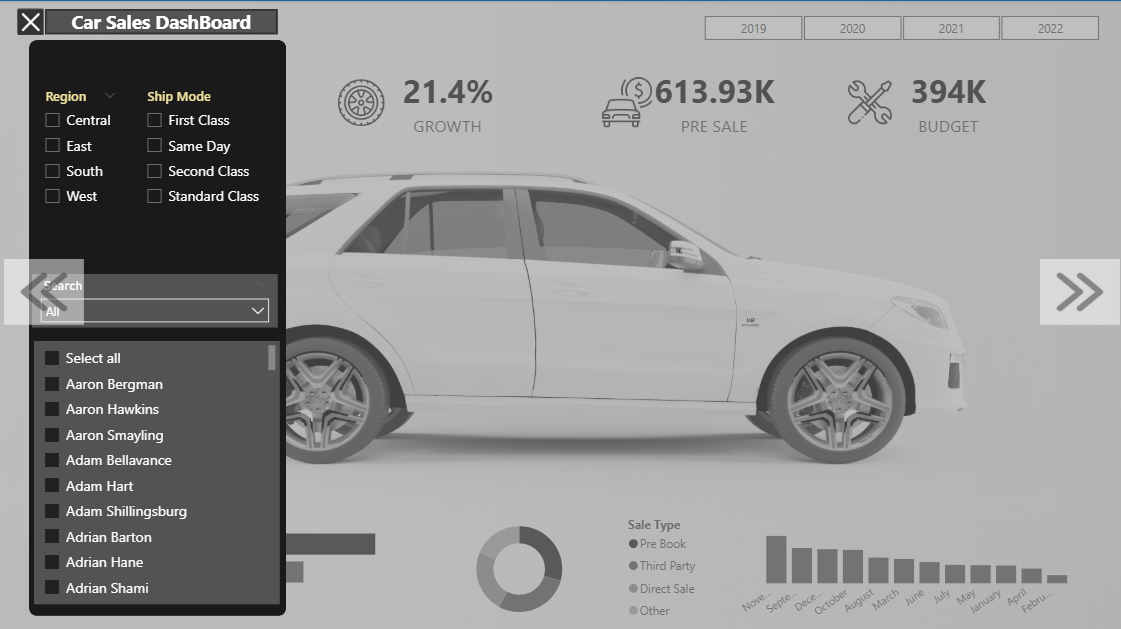

The page's visual inventory and layout, read from the dashboard file:
{"tool":"powerbi","page":{"name":"Model 1","canvas":[1280,720],"ordinal":0},"visuals":[{"type":"card","fields":{"Values":["Orders.Current Year Sales"]},"box":[95.7,48.1,246.6,135.9],"z":0},{"type":"card","fields":{"Values":["Orders.Sales Growth"]},"box":[383.4,48.1,255,135.9],"z":1000},{"type":"card","fields":{"Values":["Orders.Previous_years_sales"]},"box":[701.2,48.1,228.6,135.9],"z":2000},{"type":"card","fields":{"Values":["Budget.Budget Current Year Sales"]},"box":[967.2,48.1,228.6,135.9],"z":3000},{"type":"image","box":[83,85.4,102.3,61.4],"z":4000},{"type":"image","box":[360.9,85.4,102.3,62.6],"z":5000},{"type":"image","box":[654.4,80.6,123.9,71],"z":6000},{"type":"image","box":[943.2,86.6,98.6,60.2],"z":7000},{"type":"donutChart","fields":{"Category":["Orders.Category"],"Y":["Orders.Current Year Sales"]},"box":[463.2,582.3,344.1,132.3],"z":8000},{"type":"clusteredColumnChart","fields":{"Category":["Orders.Ordered Month"],"Y":["Orders.Current Year Sales"]},"box":[822.9,582.3,411.4,132.3],"z":9000},{"type":"clusteredBarChart","fields":{"Category":["Orders.Segment"],"Y":["Orders.Current Year Sales"]},"box":[36.1,582.3,411.4,132.3],"z":10000},{"type":"slicer","fields":{"Values":["Orders.Ordered Year"]},"box":[778.3,10.8,499.2,37.3],"z":11000},{"type":"shape","box":[52.5,10,265,28.8],"z":12000},{"type":"image","box":[5,5,62.5,40],"z":13000},{"type":"actionButton","box":[6.2,295,91.2,75],"z":15000},{"type":"actionButton","box":[1186.2,295,91.2,75],"z":16000}]}

Visuals, with their boxes on the page's 1280x720 design canvas (x1, y1, x2, y2). These are canvas units, not pixel positions in the 1121x629 screenshot, which may show the page scaled, cropped or inside an application window:
card - Orders.Current Year Sales: (96, 48, 342, 184)
card - Orders.Sales Growth: (383, 48, 638, 184)
card - Orders.Previous_years_sales: (701, 48, 930, 184)
card - Budget.Budget Current Year Sales: (967, 48, 1196, 184)
image: (83, 85, 185, 147)
image: (361, 85, 463, 148)
image: (654, 81, 778, 152)
image: (943, 87, 1042, 147)
donutChart - Orders.Category x Orders.Current Year Sales: (463, 582, 807, 715)
clusteredColumnChart - Orders.Ordered Month x Orders.Current Year Sales: (823, 582, 1234, 715)
clusteredBarChart - Orders.Segment x Orders.Current Year Sales: (36, 582, 448, 715)
slicer - Orders.Ordered Year: (778, 11, 1278, 48)
shape: (52, 10, 318, 39)
image: (5, 5, 68, 45)
actionButton: (6, 295, 97, 370)
actionButton: (1186, 295, 1277, 370)
